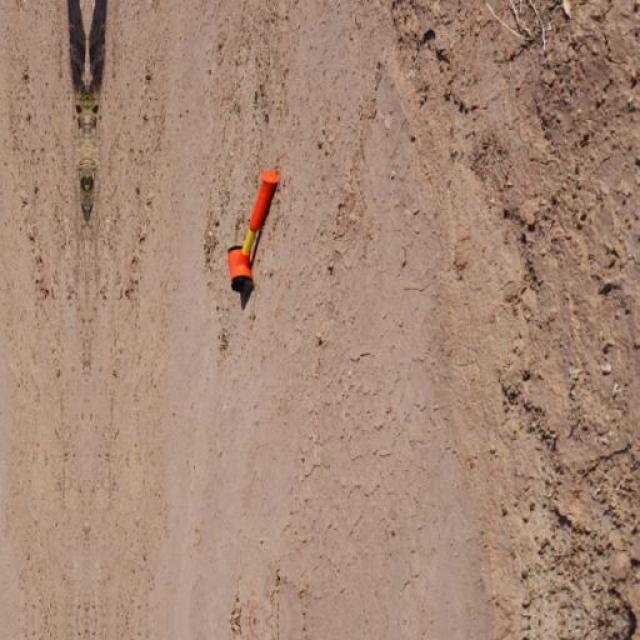mallet: (228, 168, 282, 293)
